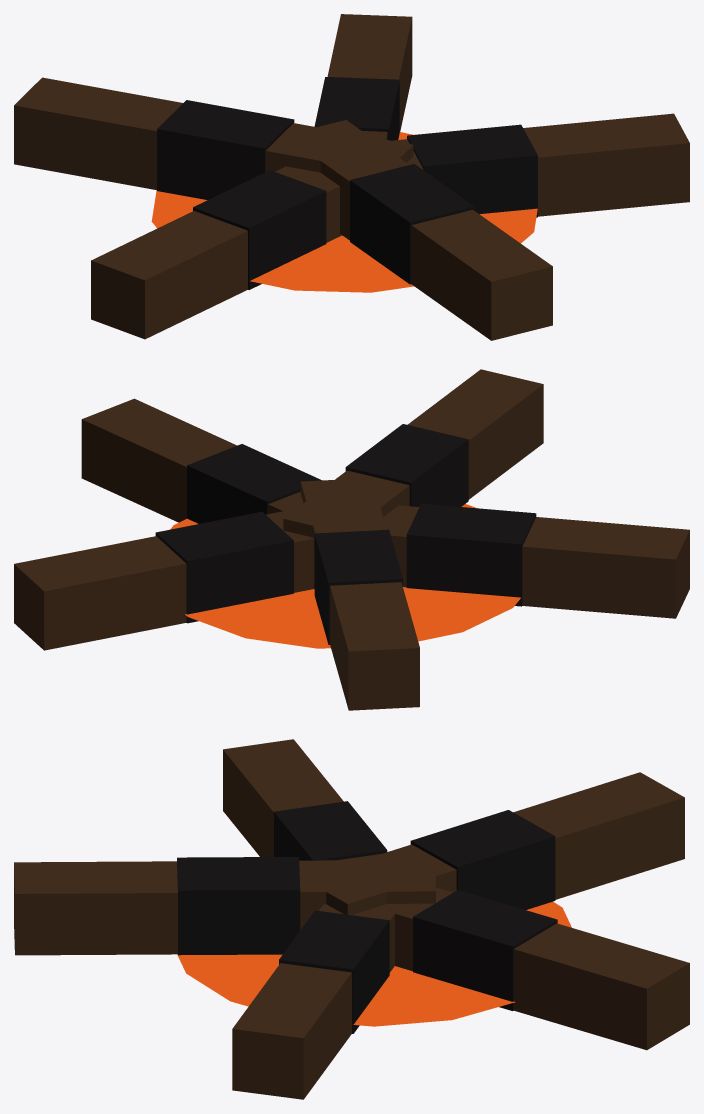
The model's file is VFP_FireLogs.obj.
3 views of the same model, one above another, from view 1: azimuth 30°, elevation 25°; view 2: azimuth 150°, elevation 25°; view 3: azimuth 270°, elevation 25° (orthographic). The views are drawn at different scales.
Parts seen in each view (by area): view 1: F_Logs, F_Embers; view 2: F_Logs, F_Embers; view 3: F_Logs, F_Embers.
Part boxes in pixels (<box>): F_Logs: <box>14,14,689,340</box>; F_Embers: <box>151,132,537,292</box>; F_Logs: <box>14,369,689,710</box>; F_Embers: <box>170,504,520,648</box>; F_Logs: <box>14,739,689,1099</box>; F_Embers: <box>177,901,571,1026</box>.
Bounding box in the file's own units: 1.04 × 0.125 × 0.9955.
